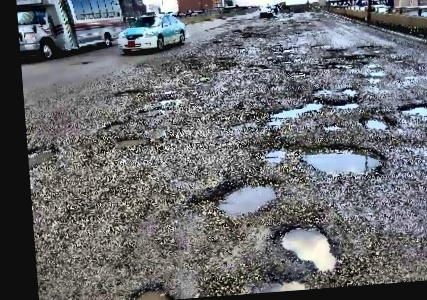pothole: (297, 136, 388, 181), (277, 220, 340, 275), (212, 176, 283, 219), (269, 98, 326, 120), (127, 279, 176, 300), (28, 143, 59, 169), (360, 111, 395, 132), (396, 100, 427, 119), (112, 134, 151, 147), (328, 98, 362, 112), (340, 85, 360, 96)
